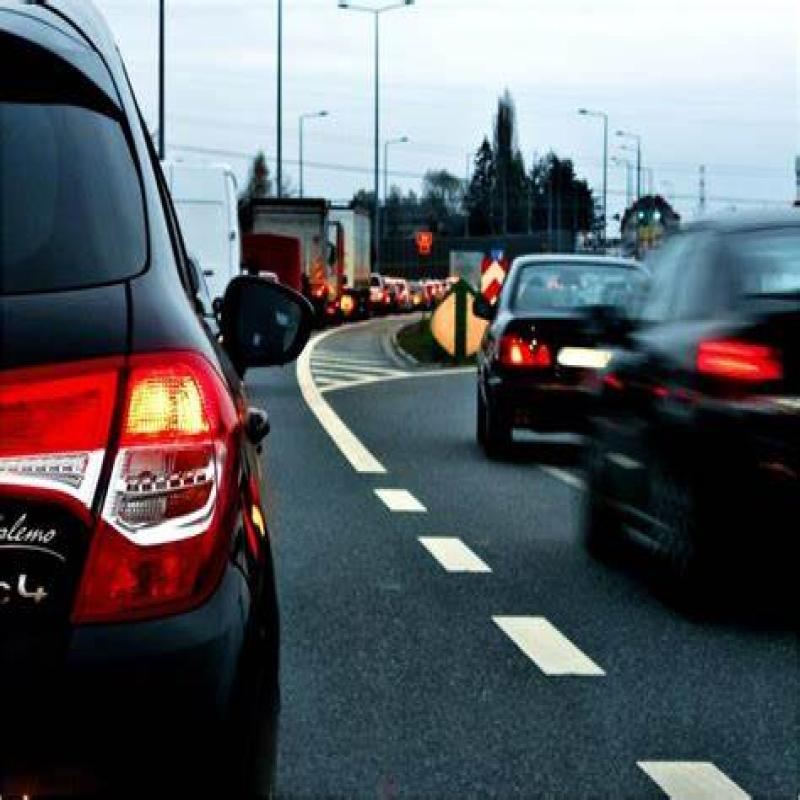car: (3, 0, 350, 800), (636, 218, 800, 616), (462, 234, 607, 423)
